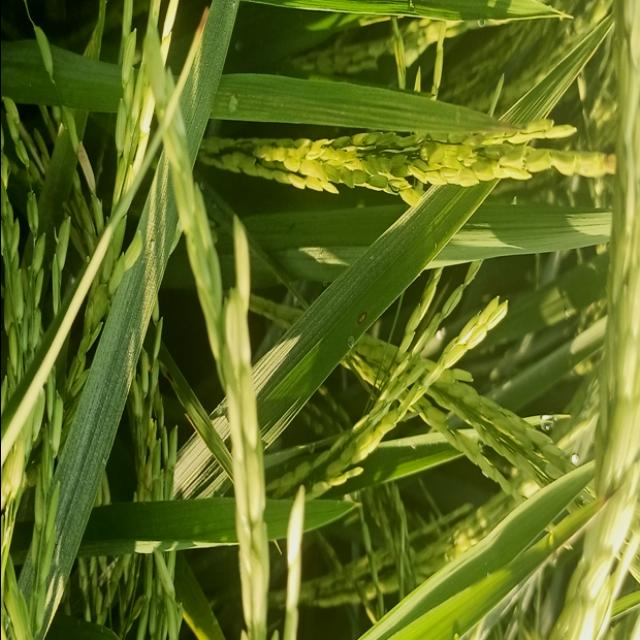insects: (354, 309, 368, 330)
